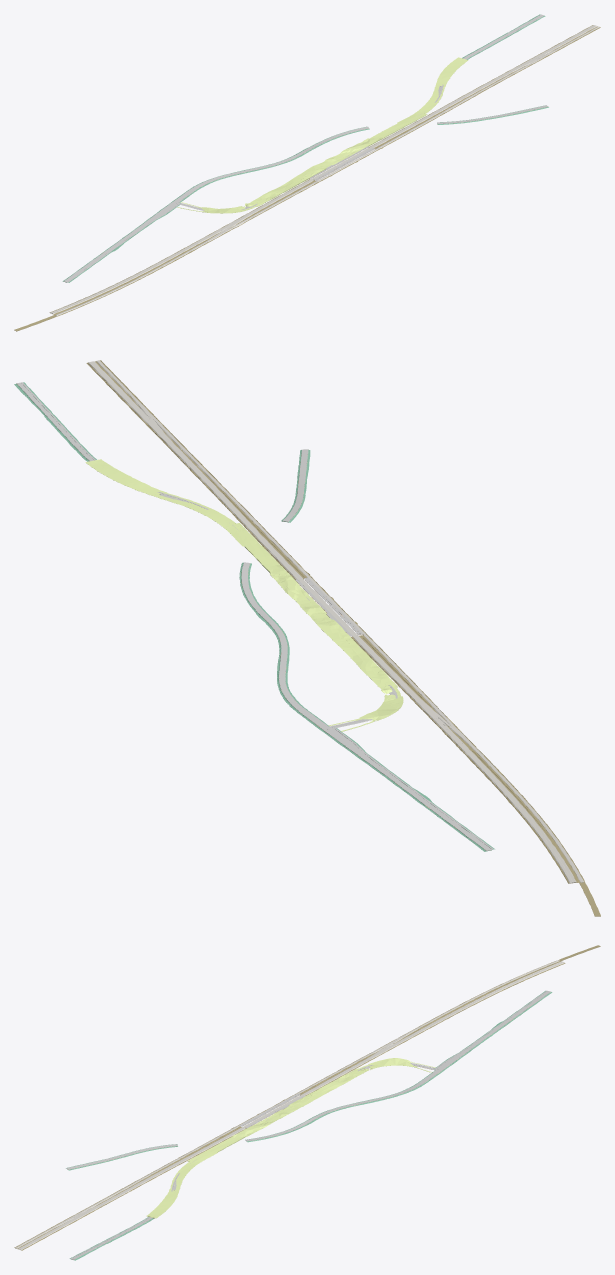
The picture shows the model from 3 angles, top to bottom: view 1: azimuth 90°, elevation 25°; view 2: azimuth 150°, elevation 25°; view 3: azimuth 270°, elevation 25°; orthographic projection. The views are drawn at different scales.
Bounding box in the file's own units: 1450 × 13.11 × 1137.
